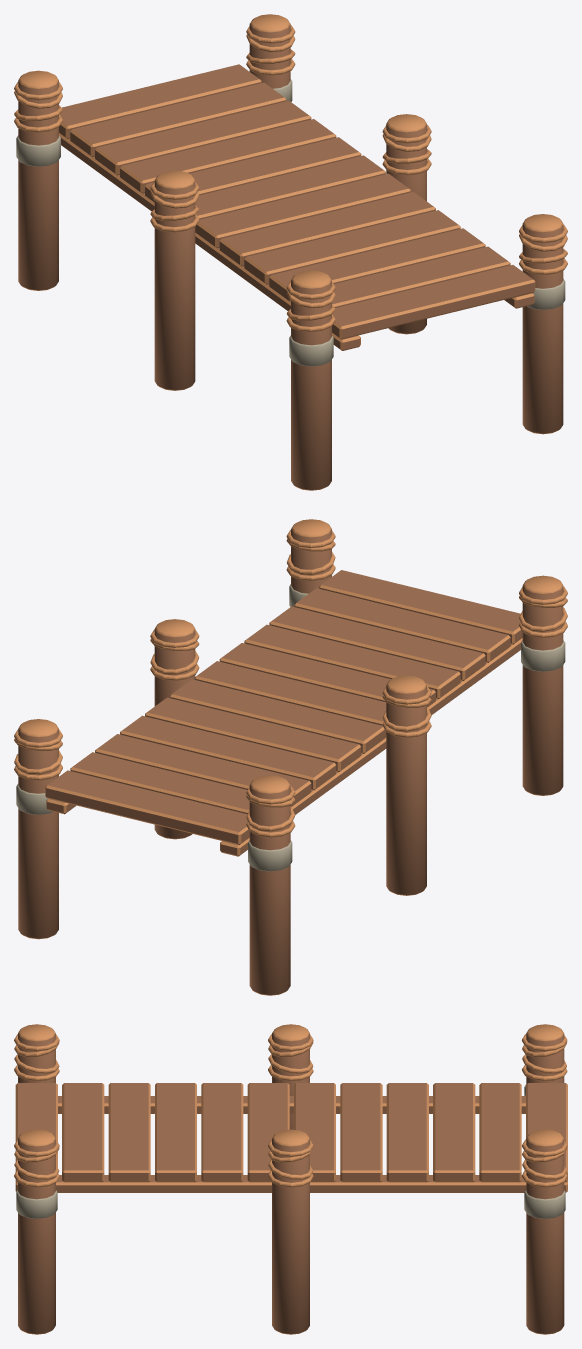
The model's file is Dock_Standard.fbx.
3 renders of one model, top to bottom at view 1: azimuth 30°, elevation 25°; view 2: azimuth 150°, elevation 25°; view 3: azimuth 270°, elevation 25°, orthographic. The views are drawn at different scales.
Visible parts, largest first — view 1: Dock Standard; view 2: Dock Standard; view 3: Dock Standard.
Part boxes in pixels (x1=…): Dock Standard: x1=14, y1=14, x2=567, y2=490; Dock Standard: x1=14, y1=519, x2=567, y2=995; Dock Standard: x1=14, y1=1024, x2=567, y2=1334.
Bounding box in the file's own units: 280 × 200 × 526.
